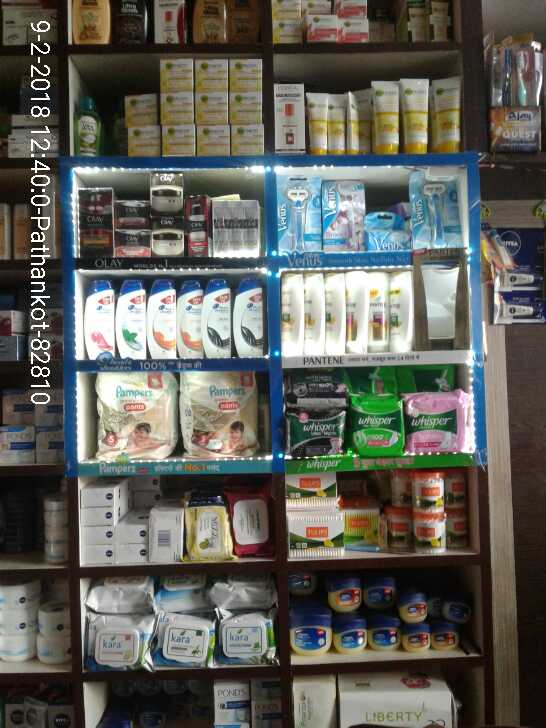venus: (412, 175, 459, 249), (277, 174, 323, 248), (323, 178, 363, 248), (369, 213, 412, 248)
